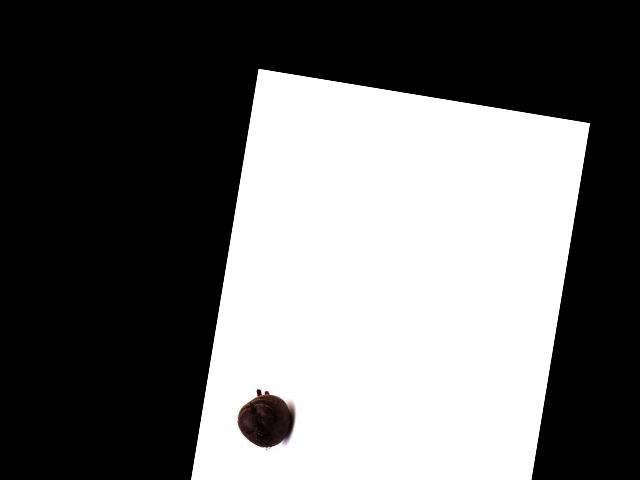beet: (233, 387, 296, 451)
